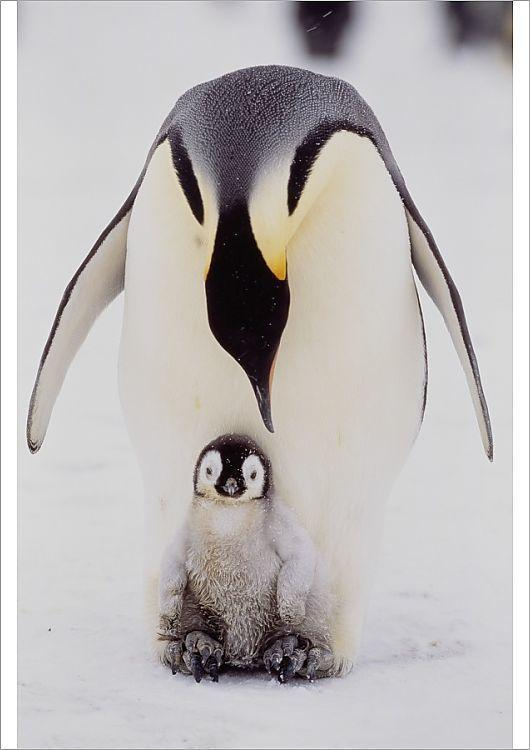emporer: (22, 63, 527, 750)
